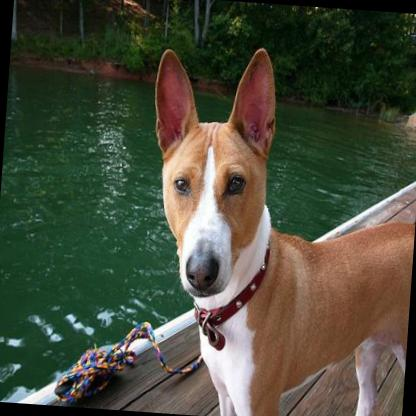basenji: (130, 39, 416, 416)
